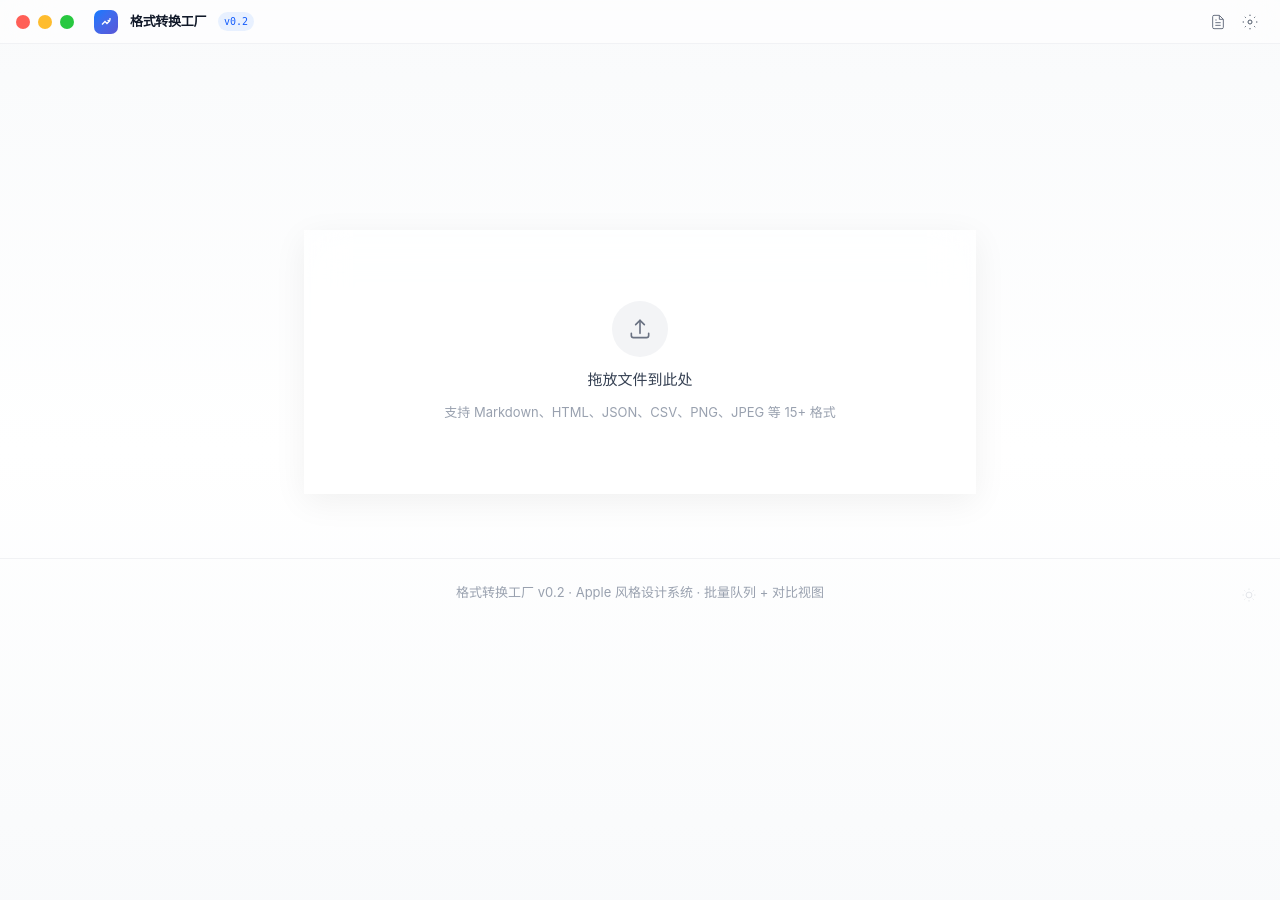
it: App › shows settings panel when settings button clicked
Click the button titled "偏好设置" at (1250, 22), box x1=1236 y1=8 x2=1264 y2=36
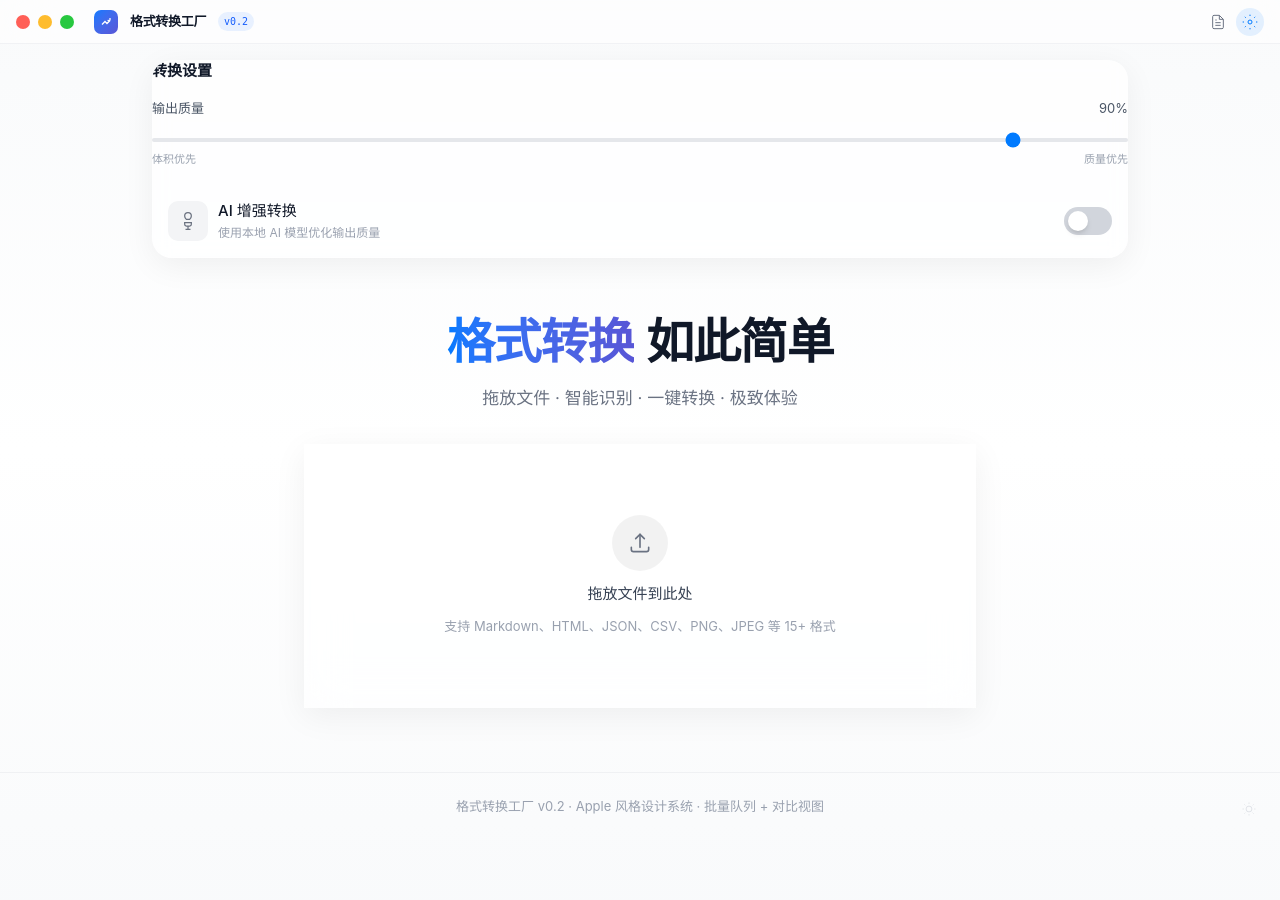
Expected: the heading "转换设置" is shown, x1=152 y1=61 x2=212 y2=80
Expected: the text "输出质量" is shown, x1=152 y1=98 x2=204 y2=118
